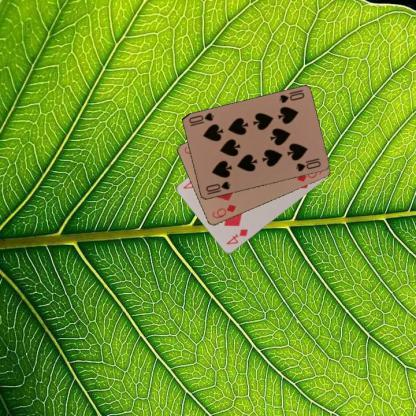10s: (203, 179, 232, 194), (276, 90, 305, 105)
4d: (224, 227, 249, 246)
6d: (209, 202, 238, 220)
